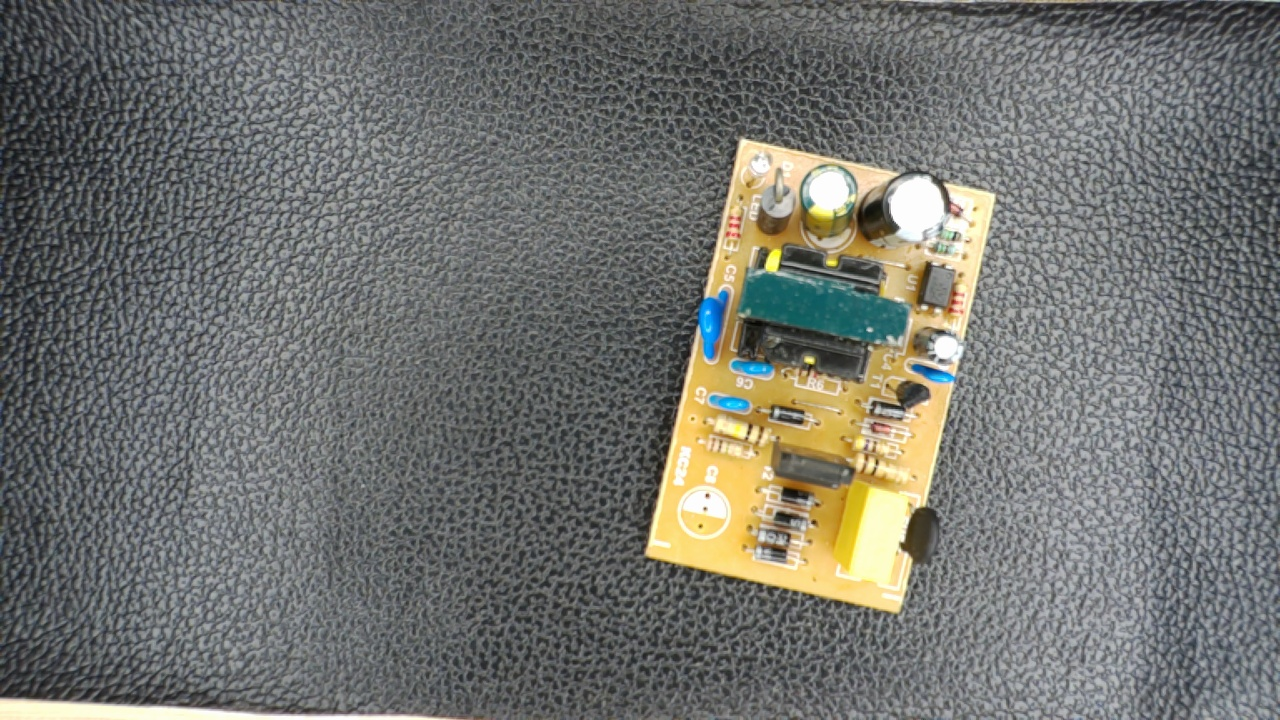fuse: (897, 489, 945, 573)
mov: (690, 278, 731, 363)
optocoupler: (914, 251, 956, 321)
